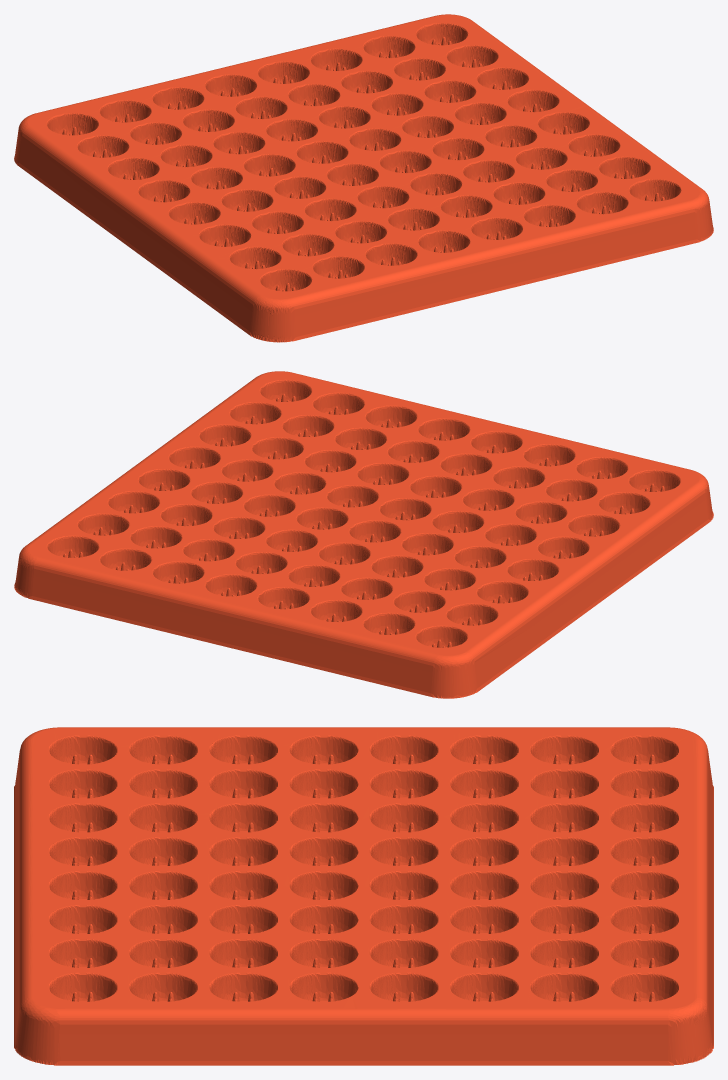
File: mold.glb
3 views of the same model, one above another, from view 1: azimuth 30°, elevation 25°; view 2: azimuth 150°, elevation 25°; view 3: azimuth 270°, elevation 25° (orthographic). The views are drawn at different scales.
Visible parts, largest first — view 1: geometry_0; view 2: geometry_0; view 3: geometry_0.
Part boxes in pixels (x1,y1,x2,y2): geometry_0: [14, 14, 713, 342]; geometry_0: [14, 371, 713, 698]; geometry_0: [14, 727, 713, 1065].
Size of the model in its own units: 0.1355 by 0.0105 by 0.1355.
